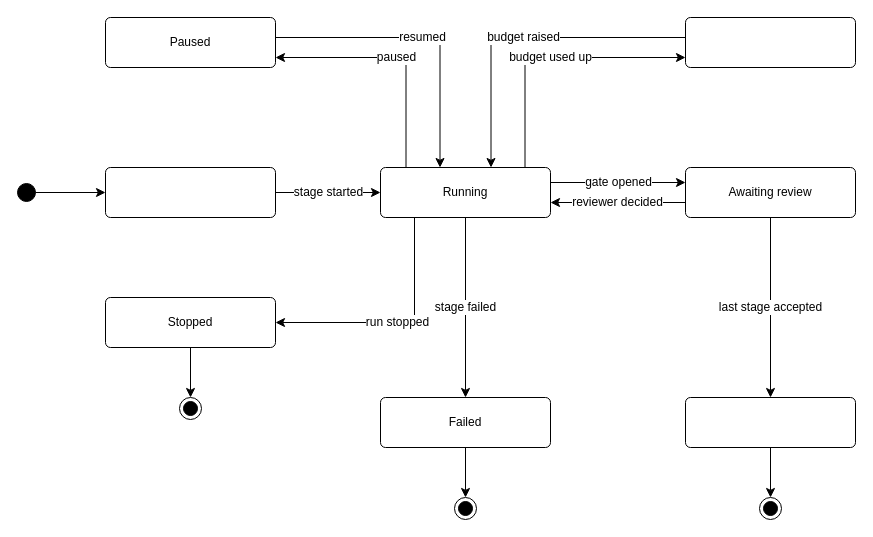
This 873x537 diagram has some shape labels left out. Here are the shapes that lost their labels. From the top down, the box of each, then its label:
(684, 16, 856, 68): Budget exceeded
(104, 166, 276, 218): Queued
(684, 396, 856, 448): Completed
